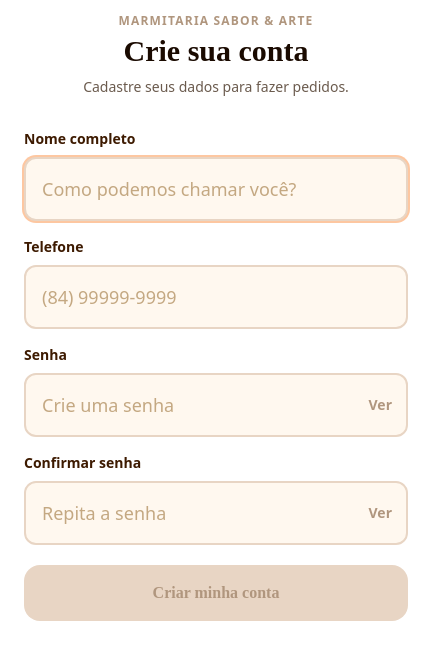
Scenario: ClientRegisterPage › mostra mensagem de telefone já cadastrado em erro 409
Type "Maria Silva" into the field labelled "Nome completo". click: (216, 189)
box: [24, 157, 408, 221]
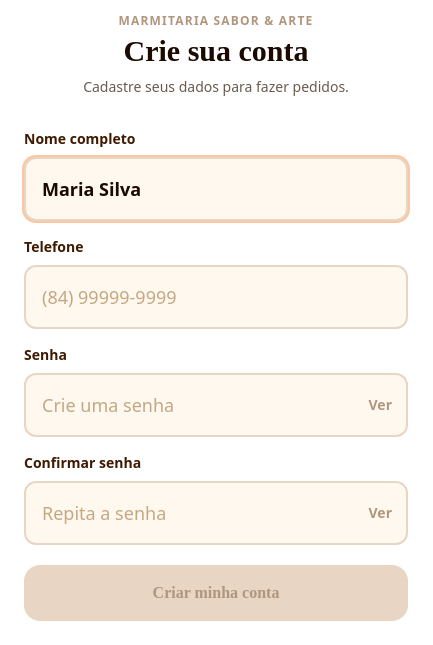
Type "84999999999" into the field labelled "Telefone". click: (216, 297)
box: [24, 265, 408, 329]
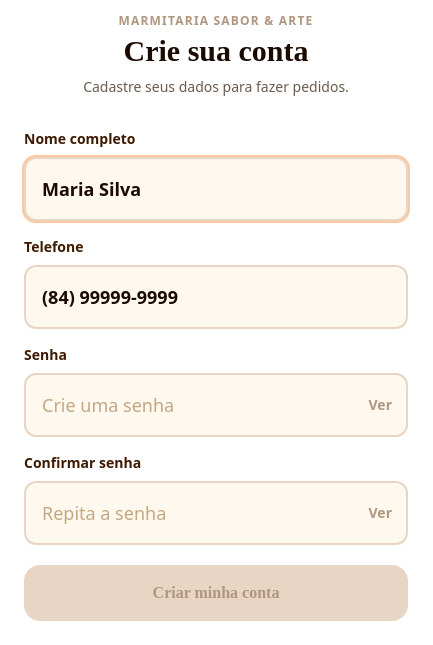
Type "12345678" into the password field labelled "Senha". click: (216, 405)
box: [24, 373, 408, 437]
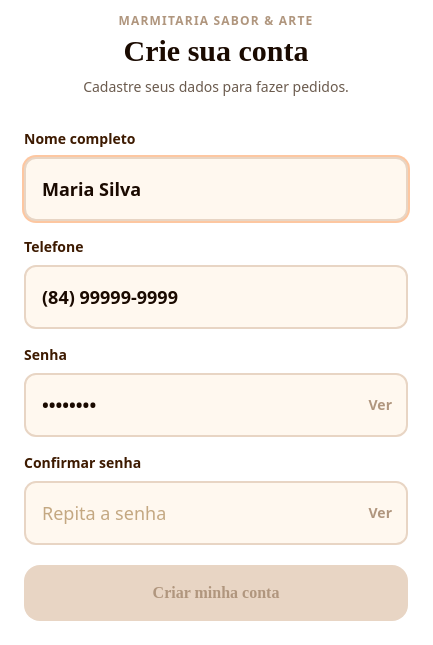
Type "12345678" into the password field labelled "Confirmar senha". click: (216, 513)
box: [24, 481, 408, 545]
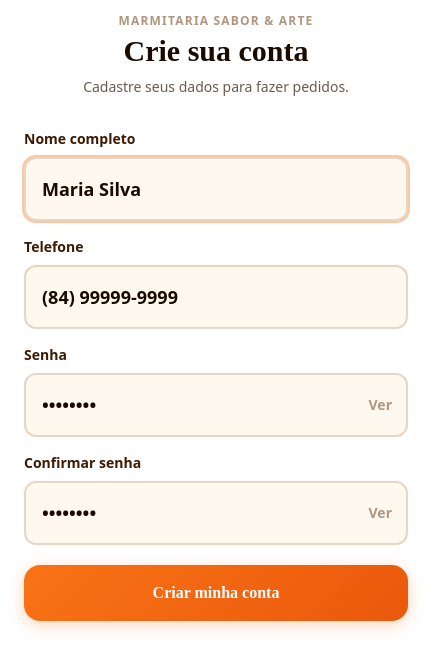
Now the button "Criar minha conta" is enabled
Click the button "Criar minha conta". click: (216, 593)
box: [24, 565, 408, 621]
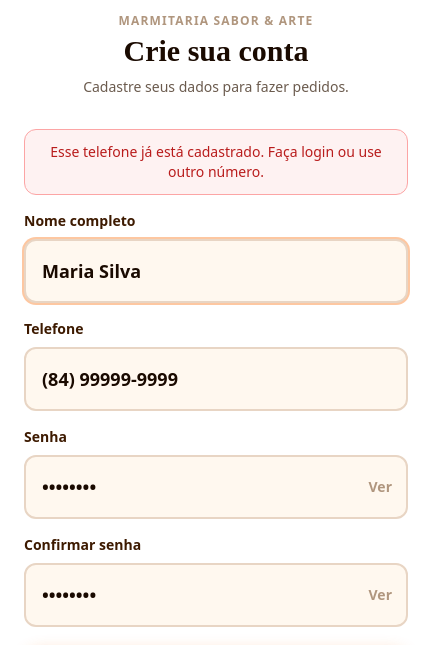
Now the text "Esse telefone já está cadastrado. Faça login ou use outro número." is shown, box [24, 129, 408, 195]
